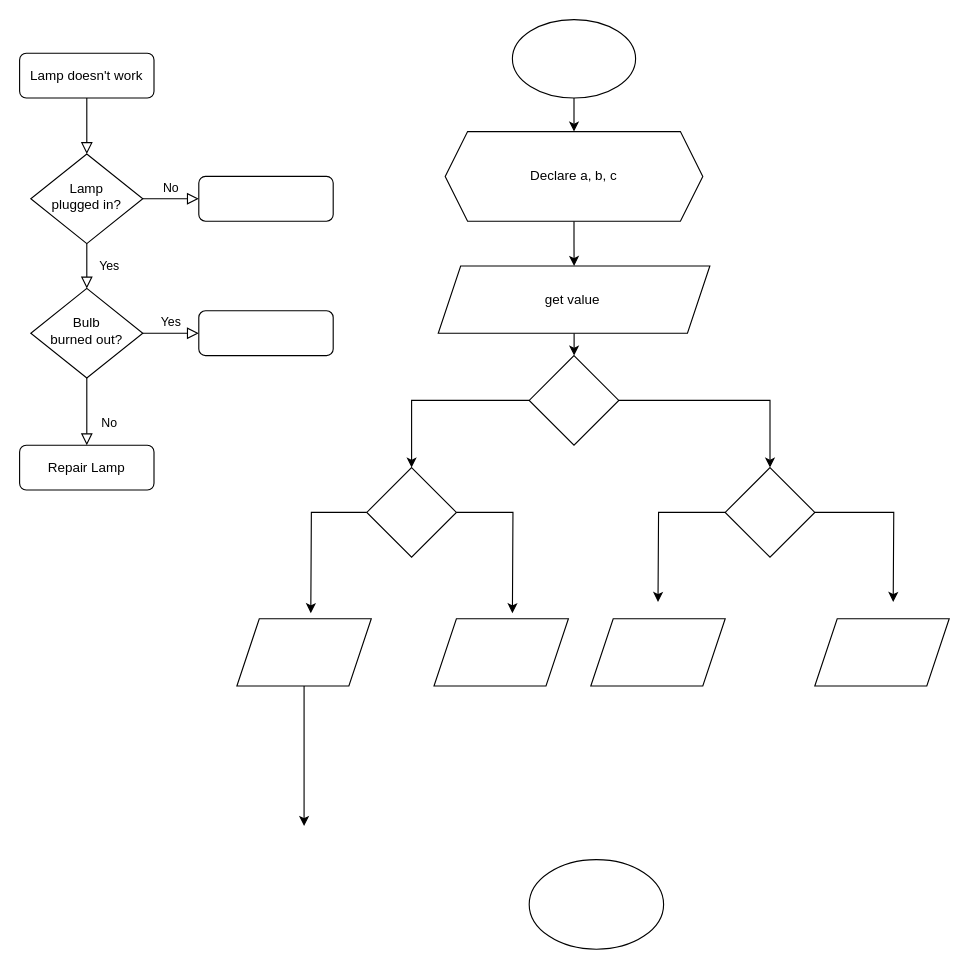
Image size: 969x969. Some labels were removed from this diagram. The centre of each missing label's shape, as x and y in pixels:
"Plug in lamp" goes at point (265, 198).
"Replace Bulb" goes at point (265, 333).
"start" goes at point (573, 58).
